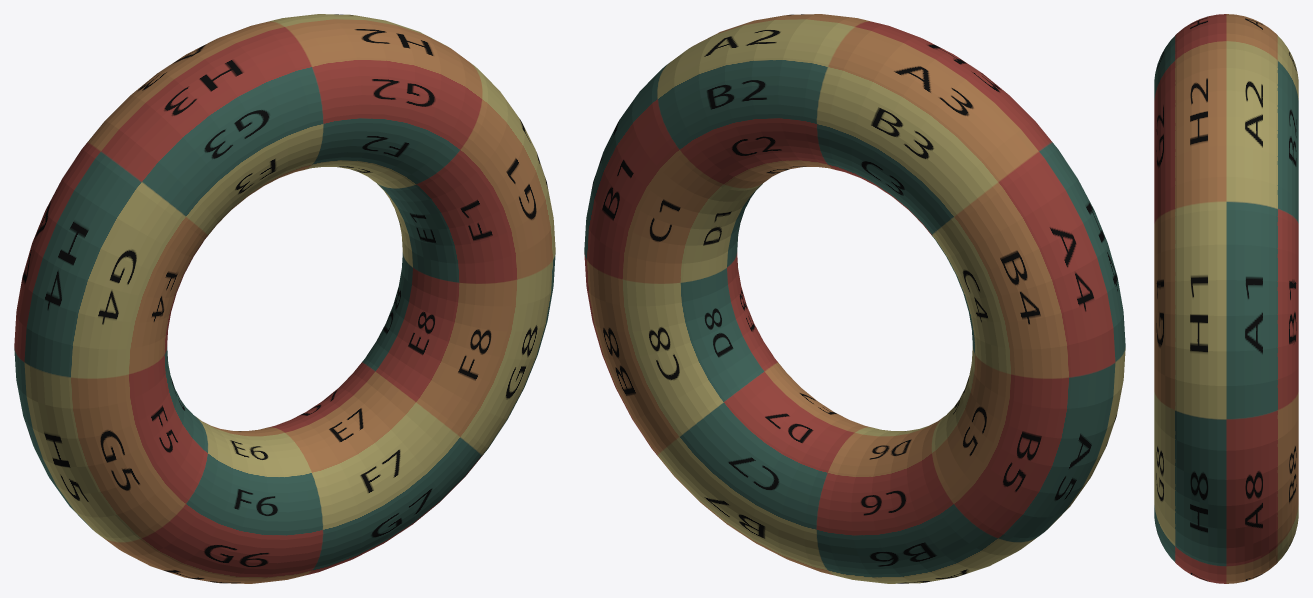
Rendered from texture_torus_R29_r30.glb.
3 views of the same model, side by side, from view 1: azimuth 30°, elevation 25°; view 2: azimuth 150°, elevation 25°; view 3: azimuth 270°, elevation 25° (orthographic). The views are drawn at different scales.
Parts seen in each view (by area): view 1: world; view 2: world; view 3: world.
Part boxes in pixels (x1,y1,x2,y2): world: (14, 14, 555, 583); world: (584, 14, 1125, 583); world: (1154, 14, 1298, 583).
Size of the model in its own units: 39.33 by 39.26 by 9.98.
Materials: 1 (1 with a texture image).
